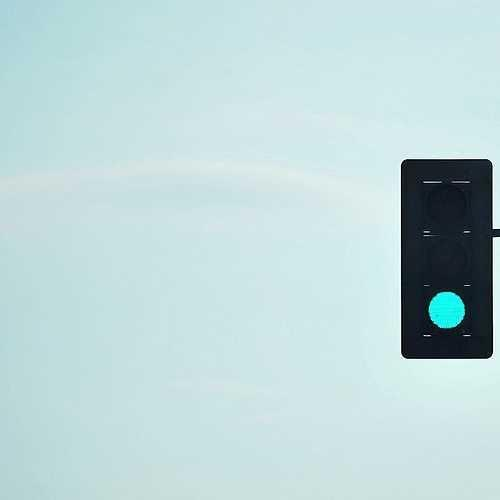2: (403, 159, 494, 360)
red traffic light: (422, 281, 472, 338)
